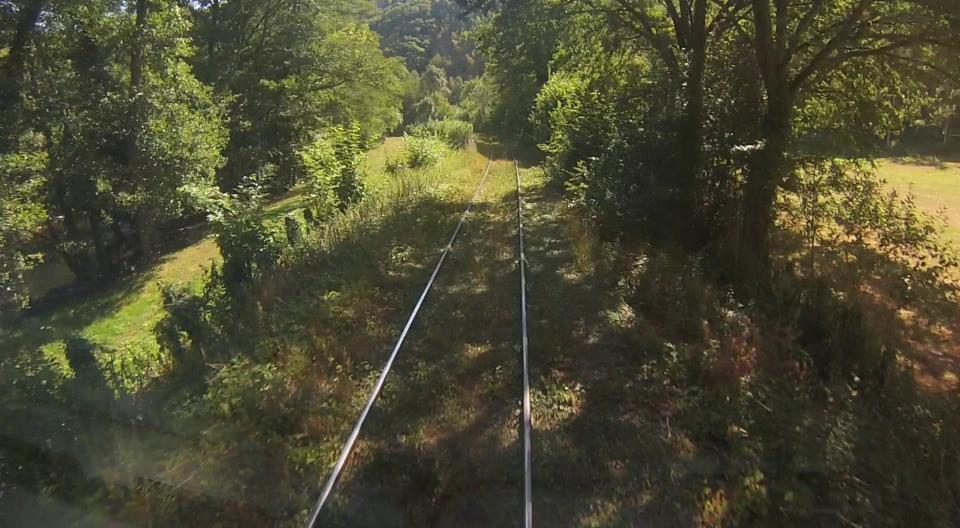Plant: (88, 147, 488, 528), (316, 160, 521, 528), (517, 162, 704, 528)
